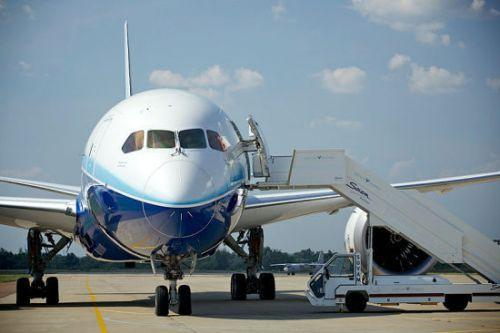airplane: (5, 21, 500, 312)
